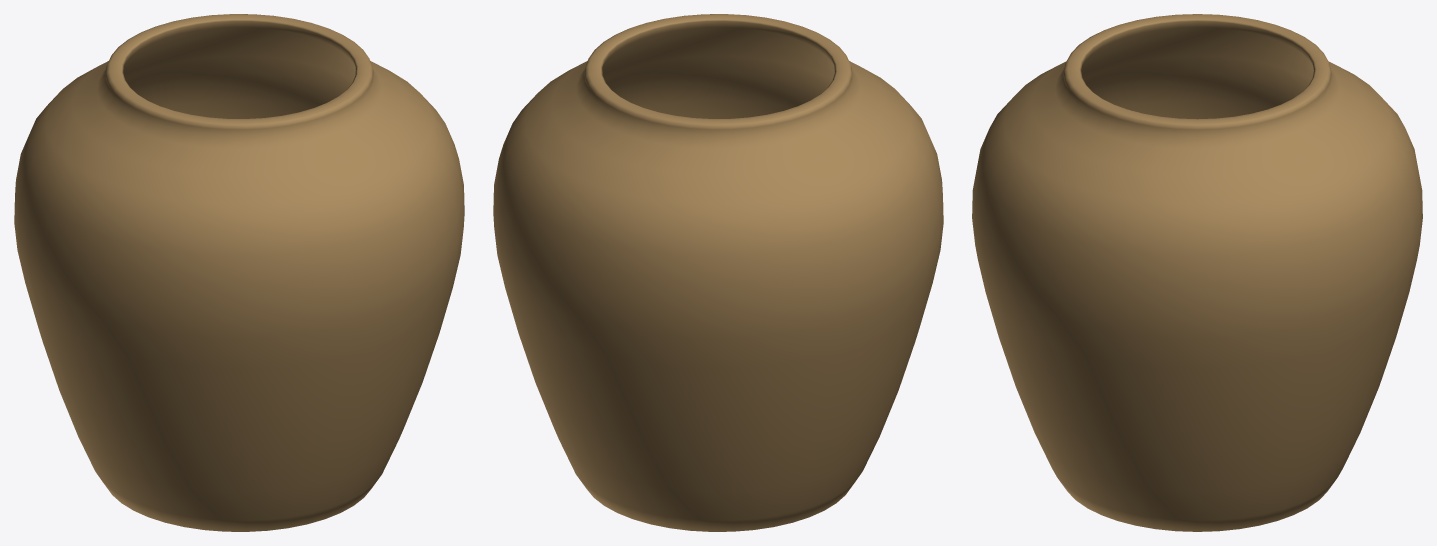
Rendered from Vase_Petit.fbx.
The picture shows the model from 3 angles, left to right: view 1: azimuth 30°, elevation 25°; view 2: azimuth 150°, elevation 25°; view 3: azimuth 270°, elevation 25°; orthographic projection.
Visible parts, largest first — view 1: pCylinder2; view 2: pCylinder2; view 3: pCylinder2.
Part boxes in pixels (x1,y1,x2,y2): pCylinder2: (14,14,464,531); pCylinder2: (493,14,943,531); pCylinder2: (972,14,1422,531).
Bounding box in the file's own units: 15.95 × 16.1 × 15.95.
